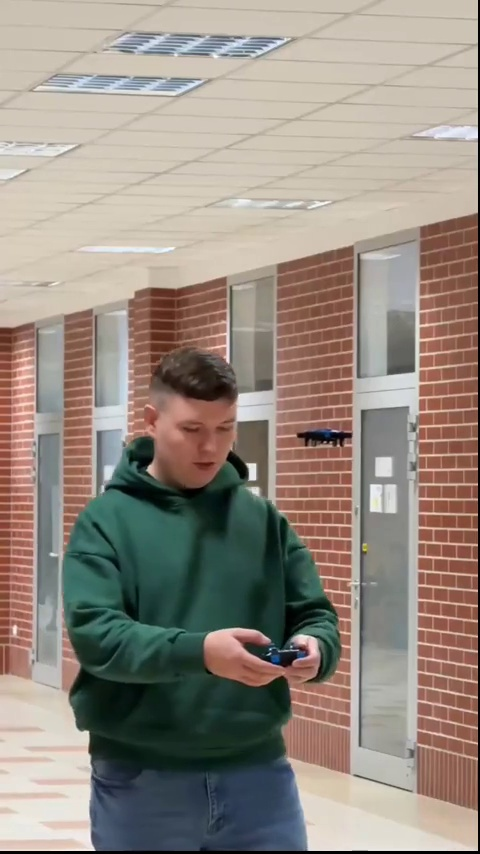drone: (296, 425, 351, 451)
no vest: (75, 345, 337, 853)
